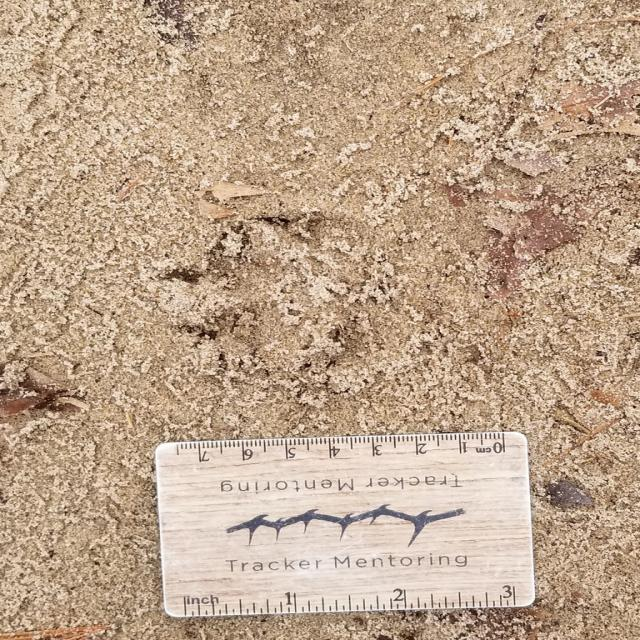canid: (163, 200, 435, 369)
